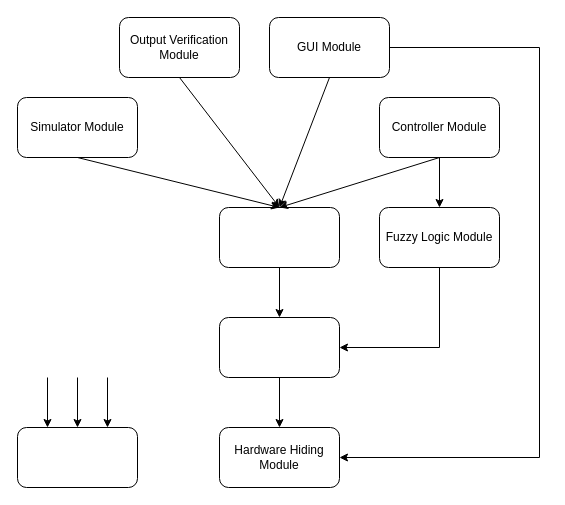
The diagram is 565 pixels wide and 505 high, and some of its shapes have lost their labels. The centre of each missing label's shape, as x and y in pixels:
"Parser Module" goes at (x=279, y=347).
"Sequence Data Structure Module" goes at (x=77, y=457).
"World Module" goes at (x=279, y=237).
